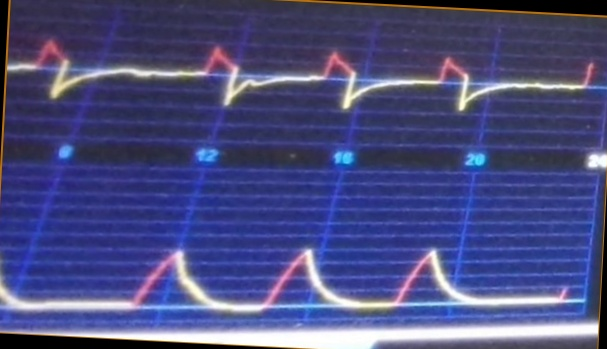Premature_cycling Flow: (10, 34, 595, 130)
Premature_cycling Volume: (2, 236, 571, 314)
